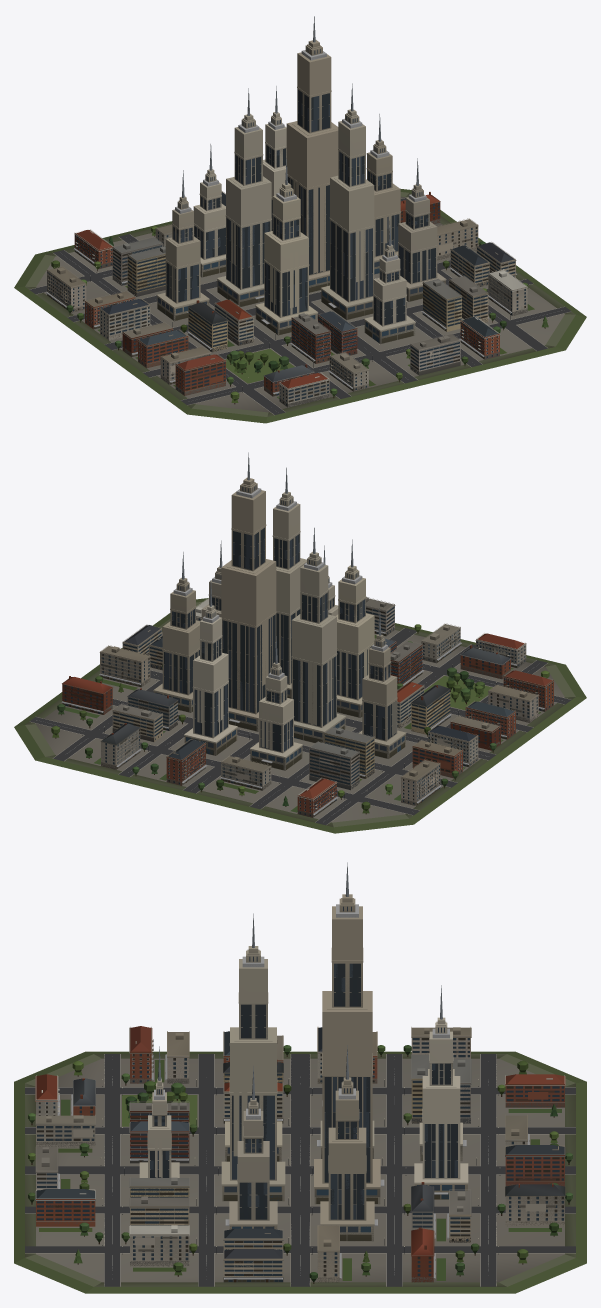
Rendered from city_ww2_metropolis.glb.
The picture shows the model from 3 angles, top to bottom: view 1: azimuth 30°, elevation 25°; view 2: azimuth 150°, elevation 25°; view 3: azimuth 270°, elevation 25°; orthographic projection. The views are drawn at different scales.
Visible parts, largest first — view 1: city_ww2_metropolis_LOD0_mesh, city_ww2_metropolis_LOD2_mesh, city_ww2_metropolis_LOD1_mesh; view 2: city_ww2_metropolis_LOD0_mesh, city_ww2_metropolis_LOD2_mesh, city_ww2_metropolis_LOD1_mesh; view 3: city_ww2_metropolis_LOD0_mesh, city_ww2_metropolis_LOD2_mesh, city_ww2_metropolis_LOD1_mesh.
Part boxes in pixels (x1,y1,x2,y2): city_ww2_metropolis_LOD0_mesh: (14,16,586,423); city_ww2_metropolis_LOD2_mesh: (15,44,584,422); city_ww2_metropolis_LOD1_mesh: (46,16,545,407); city_ww2_metropolis_LOD0_mesh: (14,458,586,833); city_ww2_metropolis_LOD2_mesh: (16,482,585,832); city_ww2_metropolis_LOD1_mesh: (51,453,553,817); city_ww2_metropolis_LOD0_mesh: (14,862,586,1293); city_ww2_metropolis_LOD2_mesh: (15,898,585,1292); city_ww2_metropolis_LOD1_mesh: (29,869,571,1282).
Bounding box in the file's own units: 366 × 233 × 366.
